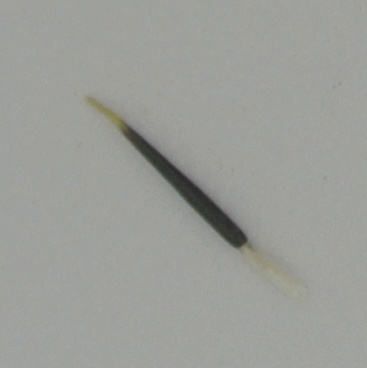เมล็ดดีเรียวยาว: (84, 95, 305, 300)
